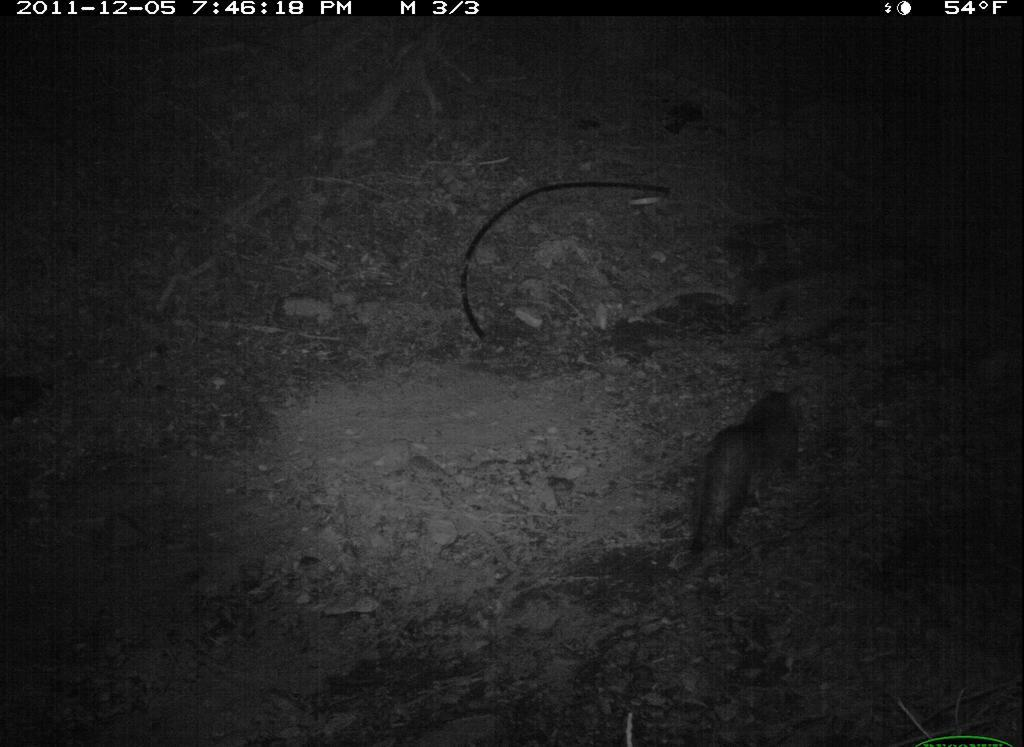cat: (673, 381, 806, 578)
